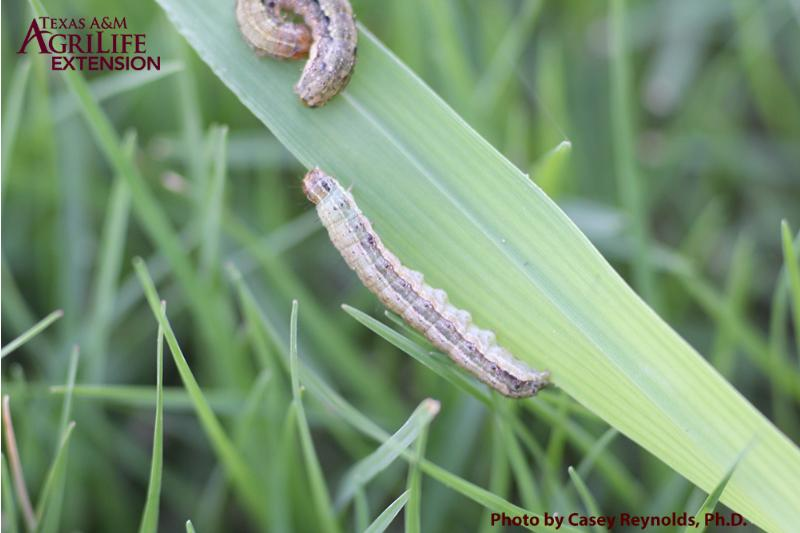fall-armyworm: (302, 170, 550, 401), (235, 1, 360, 110)
